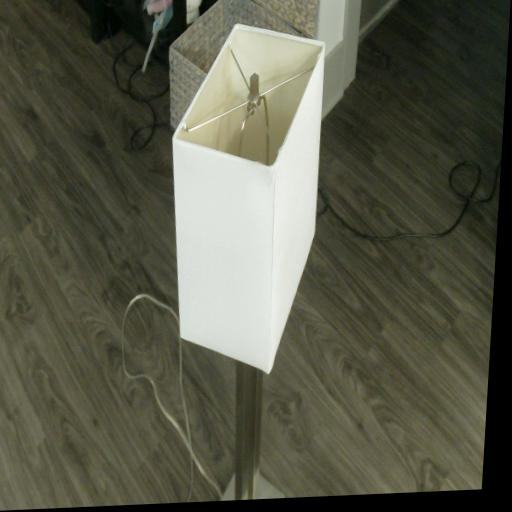lamp: (150, 19, 329, 504)
